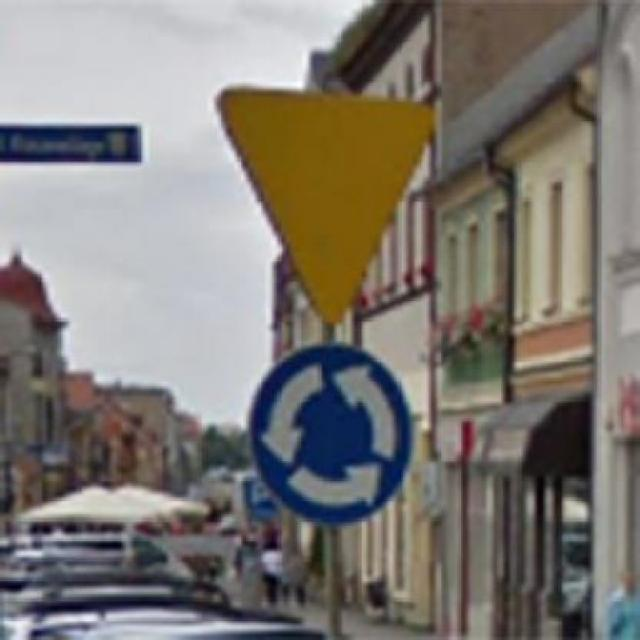Ustap pierwszenstwa: (208, 82, 440, 329)
